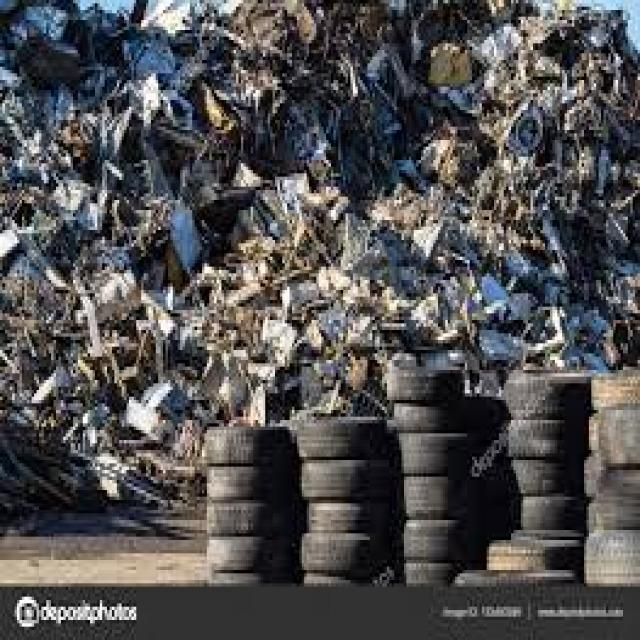Rubber -Non-Biodegradable but Recyclable-: (201, 359, 640, 591)
